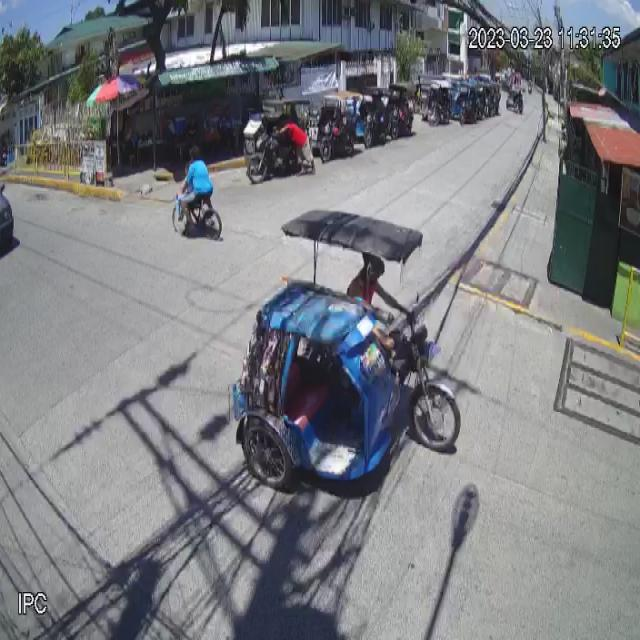Tricycle: (230, 209, 462, 491)
